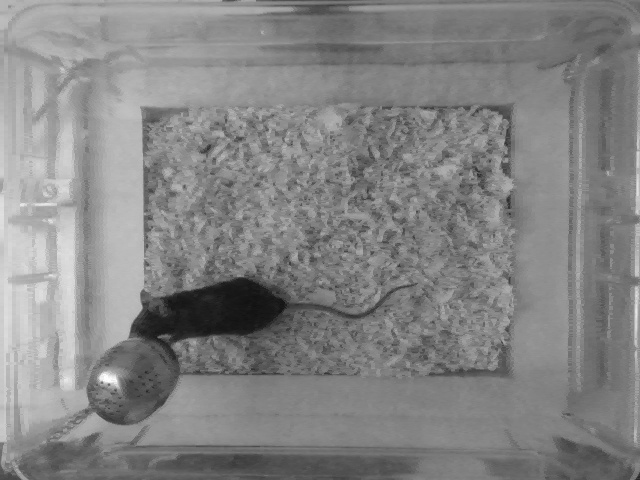mice: (120, 271, 414, 349)
